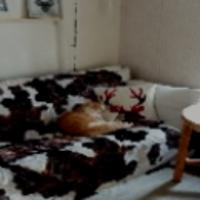asleep: (55, 101, 132, 135)
